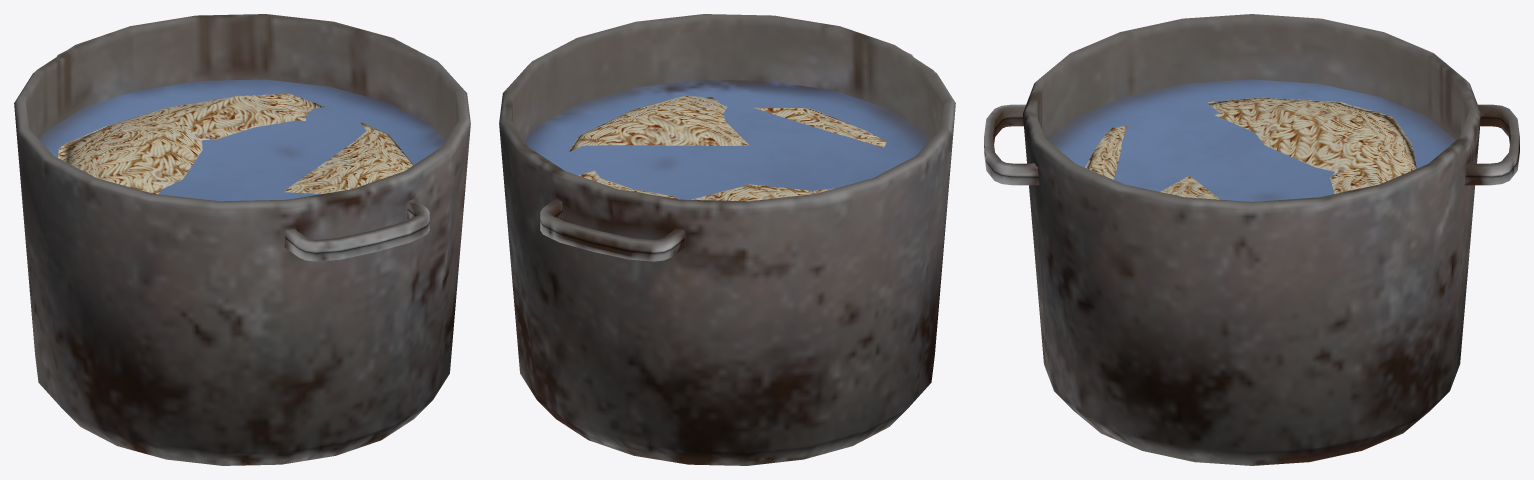
Rendered from CookingPotNoodles.glb.
The picture shows the model from 3 angles, left to right: view 1: azimuth 30°, elevation 25°; view 2: azimuth 150°, elevation 25°; view 3: azimuth 270°, elevation 25°; orthographic projection.
Parts seen in each view (by area): view 1: CookingPotNoodles; view 2: CookingPotNoodles; view 3: CookingPotNoodles.
Boxes of the visible parts, x1,y1,x2,y2 form: CookingPotNoodles: (14,14,470,465); CookingPotNoodles: (499,14,955,465); CookingPotNoodles: (984,14,1519,465).
Size of the model in its own units: 0.5991 by 0.4012 by 0.7002.
Materials: 2 (2 with a texture image).
